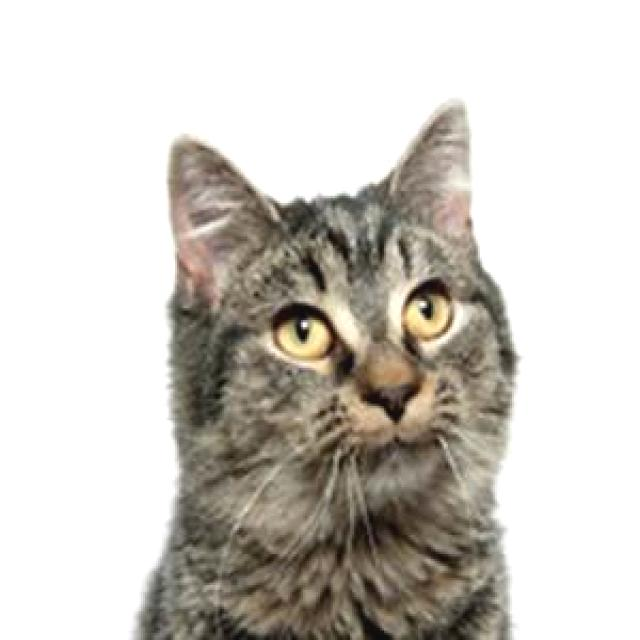KEDI: (126, 91, 521, 638)
